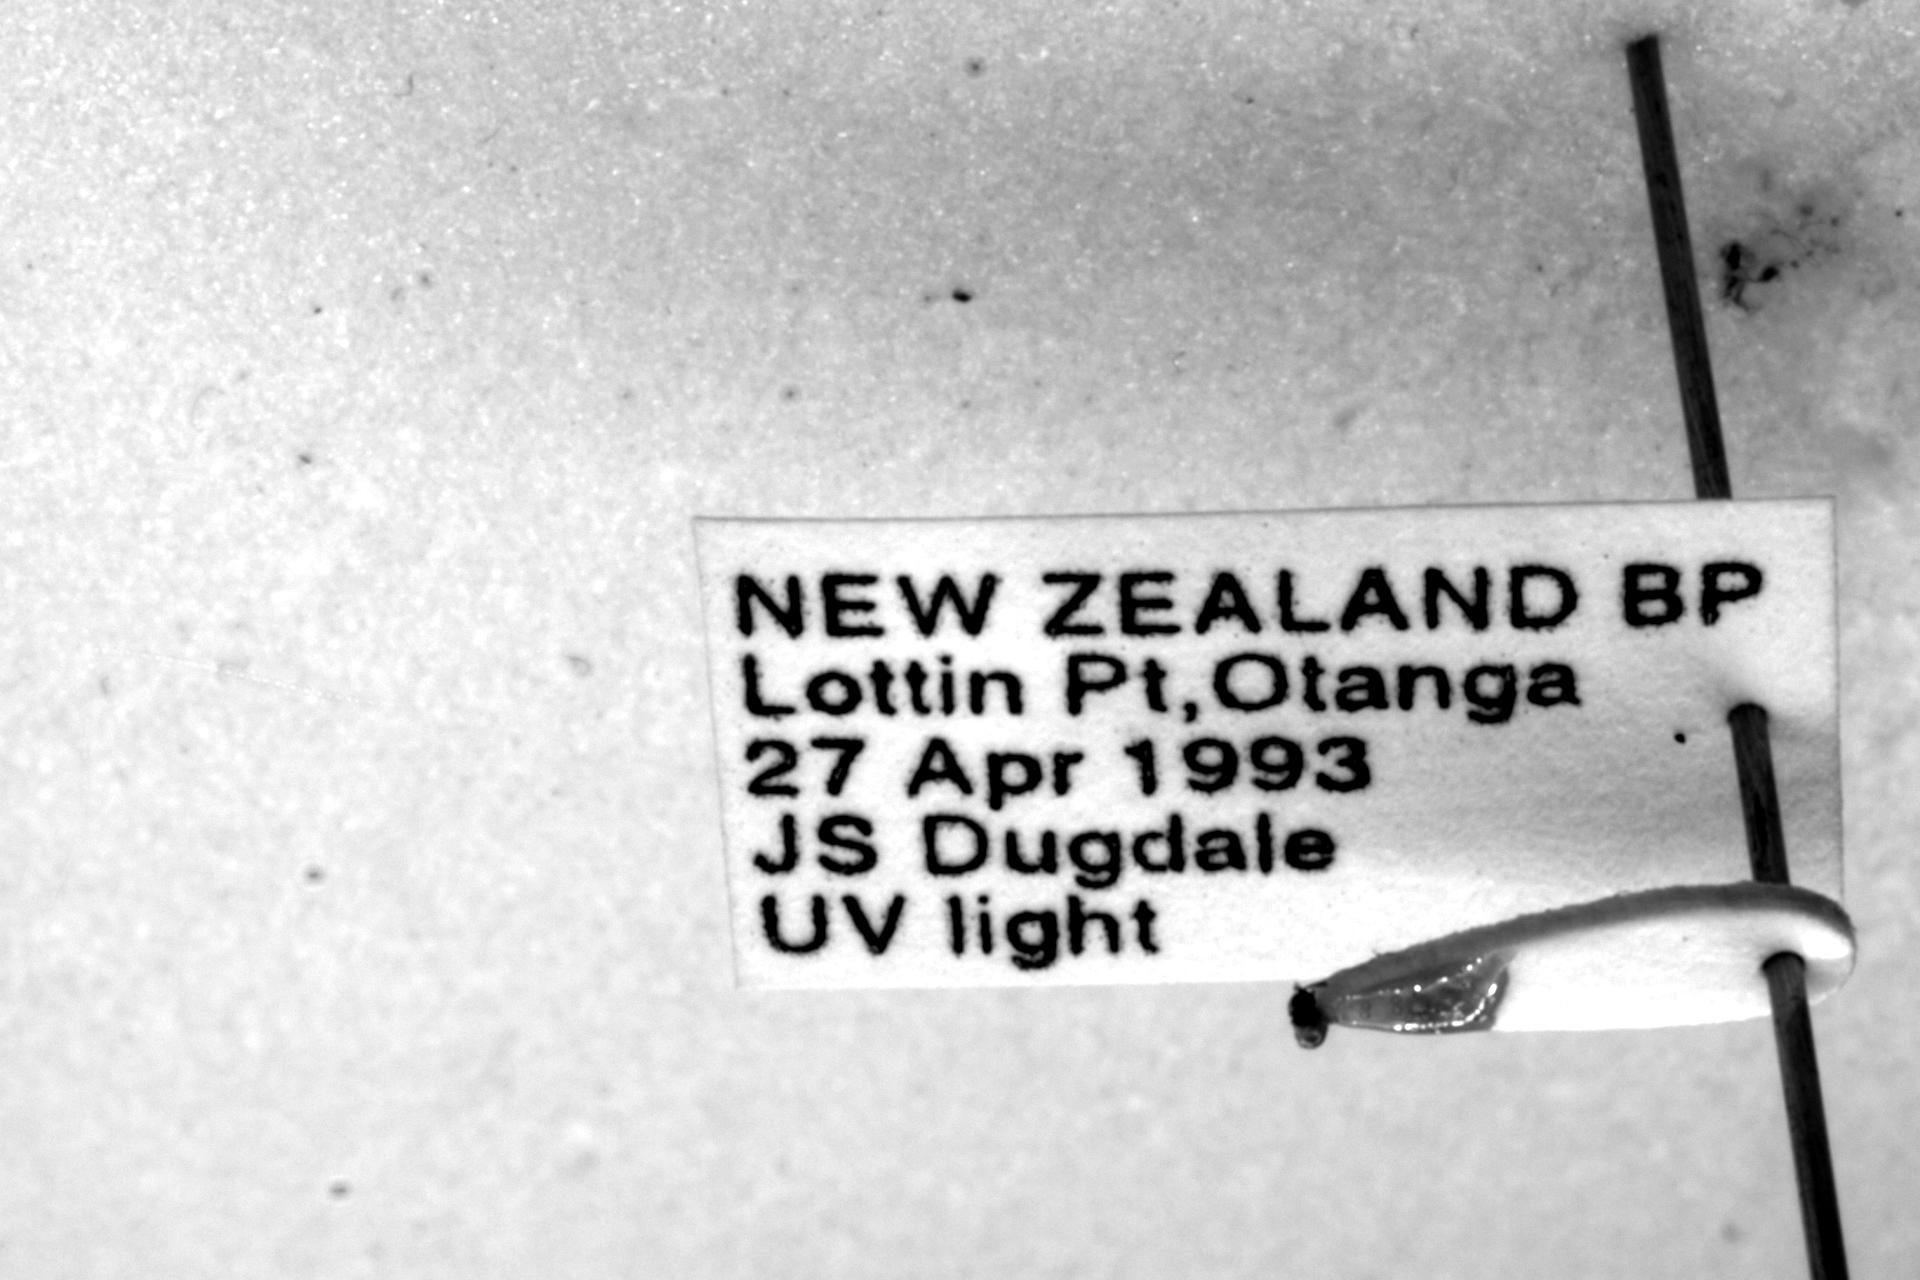typed_label: (694, 499, 1841, 986)
